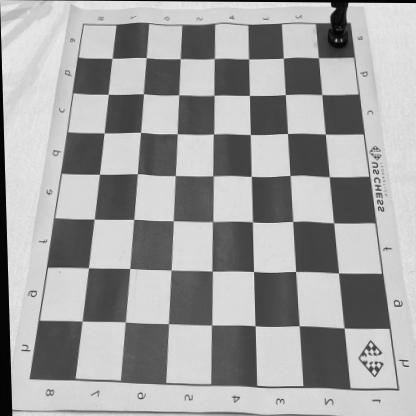black-knight: (324, 2, 351, 49)
